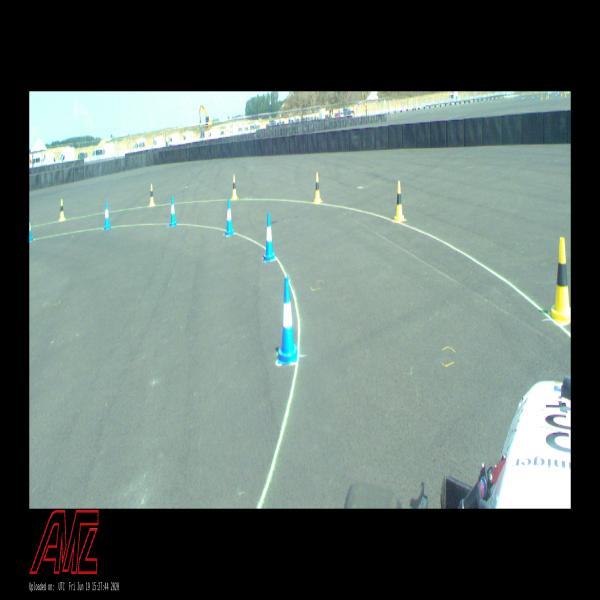blue_cone: (277, 276, 298, 364), (263, 212, 276, 262), (225, 198, 234, 236), (169, 196, 177, 227), (104, 202, 111, 230), (29, 217, 33, 242)
yellow_cone: (548, 237, 571, 323), (394, 180, 405, 222), (314, 172, 322, 203), (231, 175, 238, 200), (149, 184, 155, 207), (59, 199, 65, 221)
